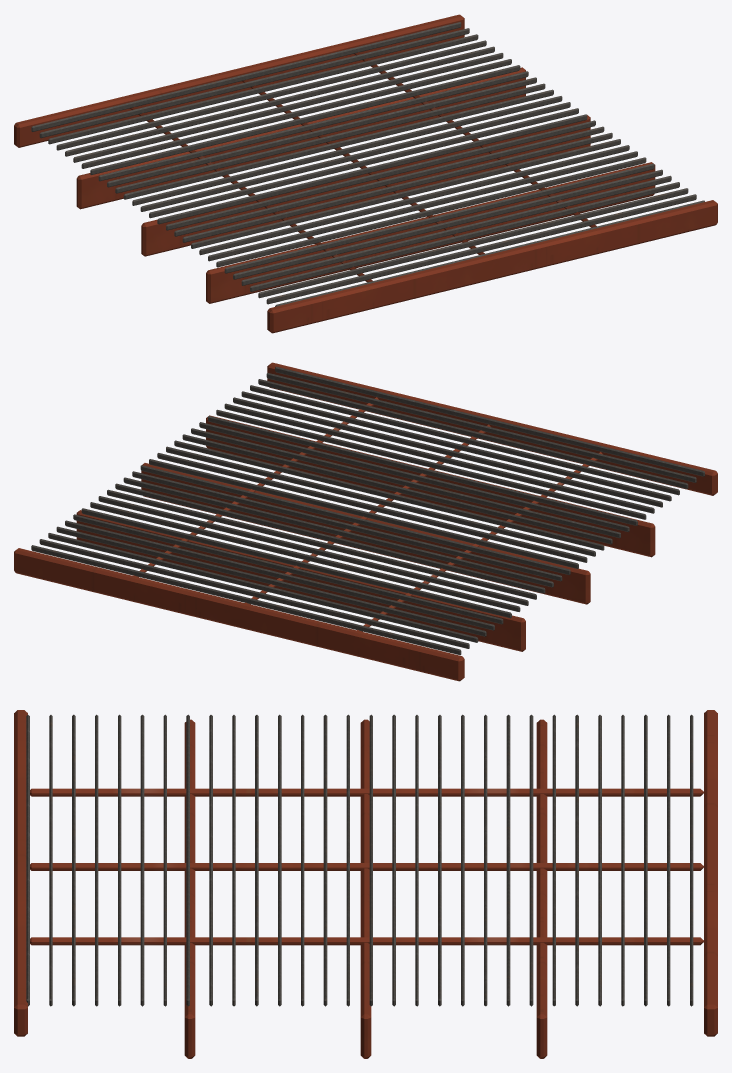
Rendered from WK_FLOOR_SLAB_B_01.glb.
The picture shows the model from 3 angles, top to bottom: view 1: azimuth 30°, elevation 25°; view 2: azimuth 150°, elevation 25°; view 3: azimuth 270°, elevation 25°; orthographic projection. The views are drawn at different scales.
Parts seen in each view (by area): view 1: WK_FLOOR_SLAB_B_01; view 2: WK_FLOOR_SLAB_B_01; view 3: WK_FLOOR_SLAB_B_01.
Boxes of the visible parts, box(x1,y1,x2,y2) form: WK_FLOOR_SLAB_B_01: box(14, 14, 717, 333); WK_FLOOR_SLAB_B_01: box(14, 362, 717, 681); WK_FLOOR_SLAB_B_01: box(14, 710, 717, 1058).
Bounding box in the file's own units: 4 × 0.345 × 4.
2 materials, 2 textured.
